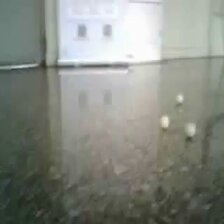tennis: (179, 202, 218, 224), (87, 109, 112, 139), (8, 86, 27, 110), (129, 76, 143, 95)
